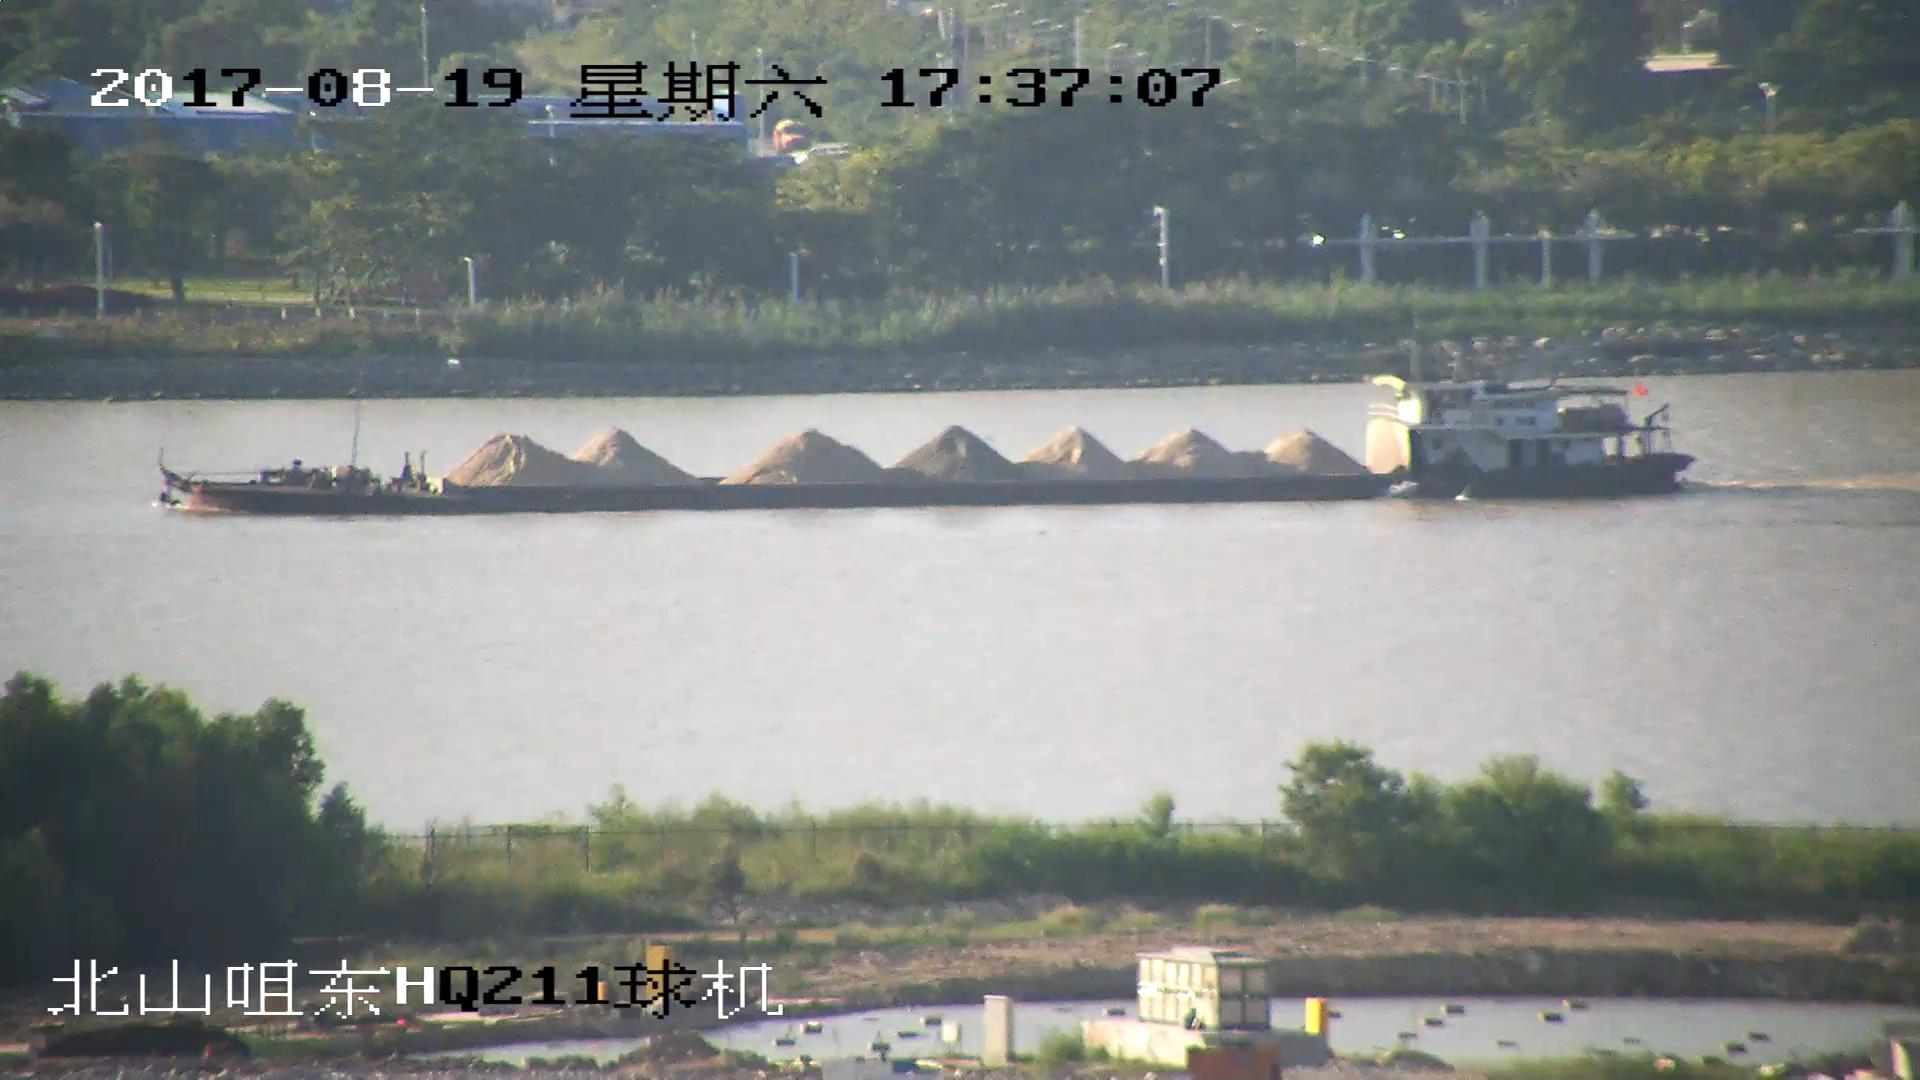ore carrier: (148, 346, 1698, 516)
